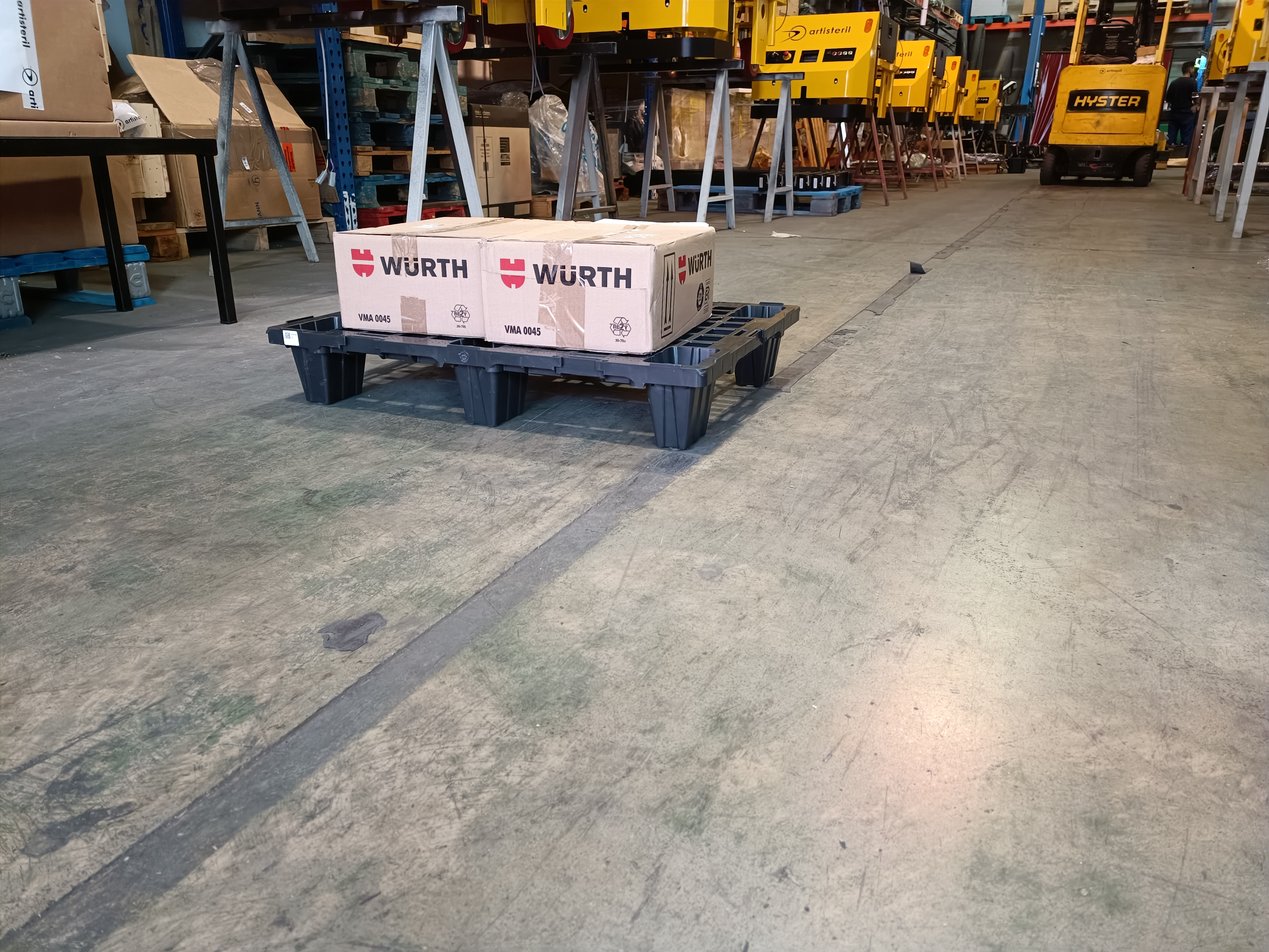block: (454, 360, 538, 424), (284, 334, 367, 397), (646, 383, 712, 448)
front: (266, 326, 704, 468)
hole pallet: (496, 374, 656, 443), (347, 345, 457, 409)
